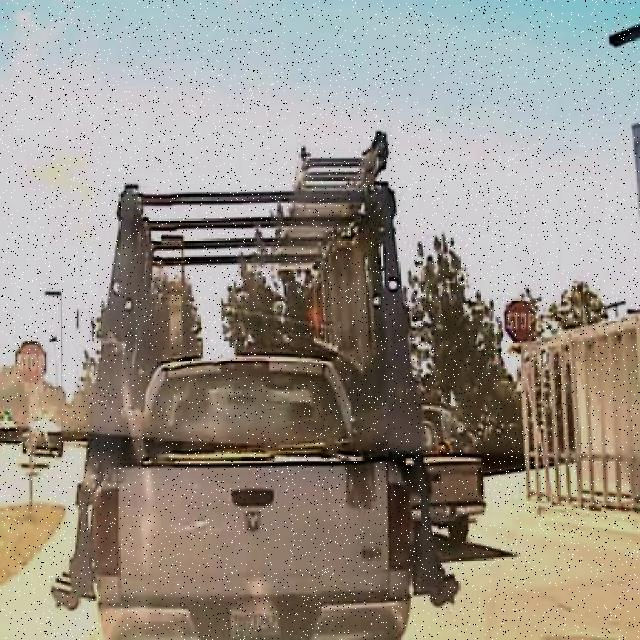Stop: (502, 297, 540, 345), (14, 342, 48, 386)
